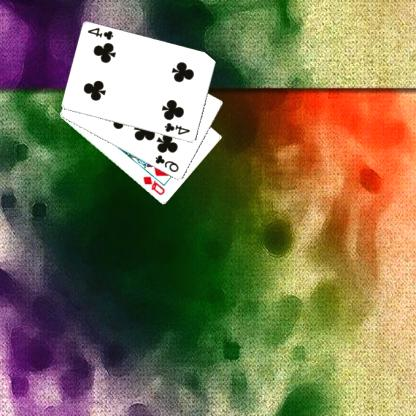4C: (86, 25, 116, 42), (164, 120, 193, 136)
9C: (154, 152, 182, 174)
QD: (142, 174, 168, 196)
